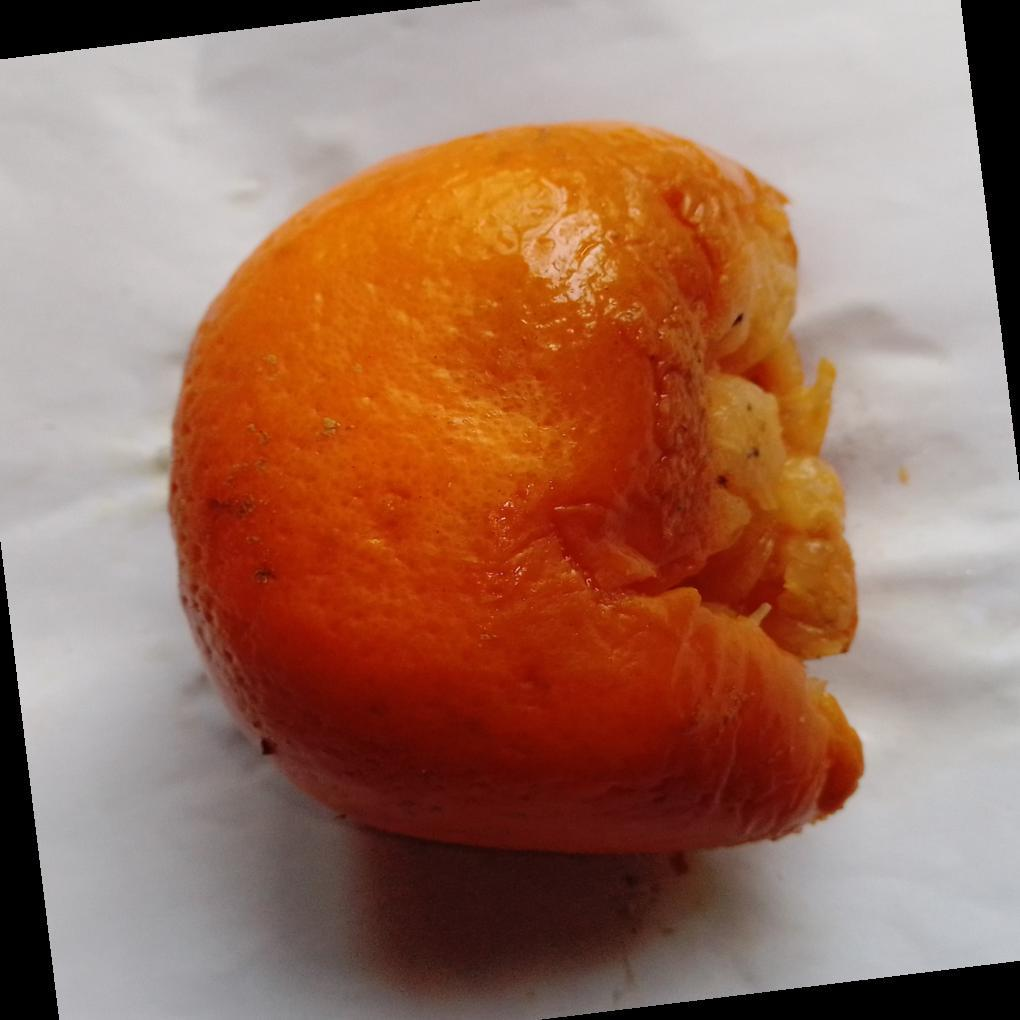FreshOrange: (166, 122, 867, 863)
